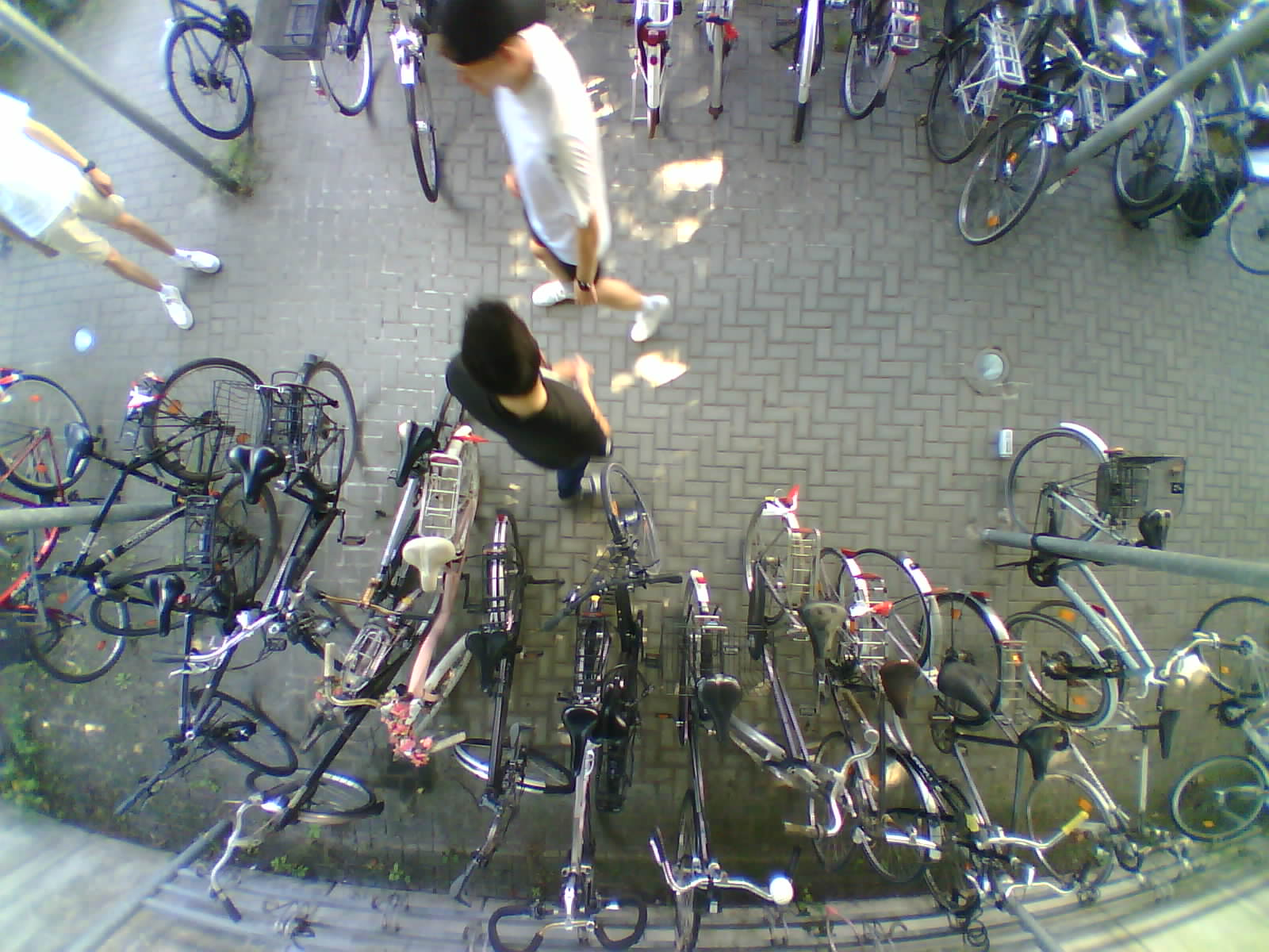bicylce: (75, 360, 257, 639), (244, 591, 446, 826), (1004, 424, 1165, 716), (367, 430, 491, 776), (0, 376, 132, 670), (176, 474, 295, 777), (1007, 597, 1124, 904), (843, 546, 953, 870), (916, 590, 1014, 942), (456, 509, 564, 804), (733, 485, 828, 819), (267, 356, 370, 664), (958, 0, 1078, 247), (660, 566, 730, 952), (805, 541, 887, 854), (594, 462, 671, 791), (543, 607, 616, 948)
saddle: (227, 443, 289, 513), (392, 531, 452, 596), (696, 674, 746, 747), (870, 655, 922, 722), (939, 660, 995, 722), (1100, 6, 1155, 65), (297, 697, 349, 756), (557, 700, 596, 778), (392, 415, 432, 490), (466, 626, 513, 689), (1140, 511, 1189, 571), (143, 571, 186, 639), (798, 597, 839, 667), (59, 416, 94, 479), (1017, 724, 1056, 778), (1028, 540, 1062, 595), (1156, 699, 1188, 757)
